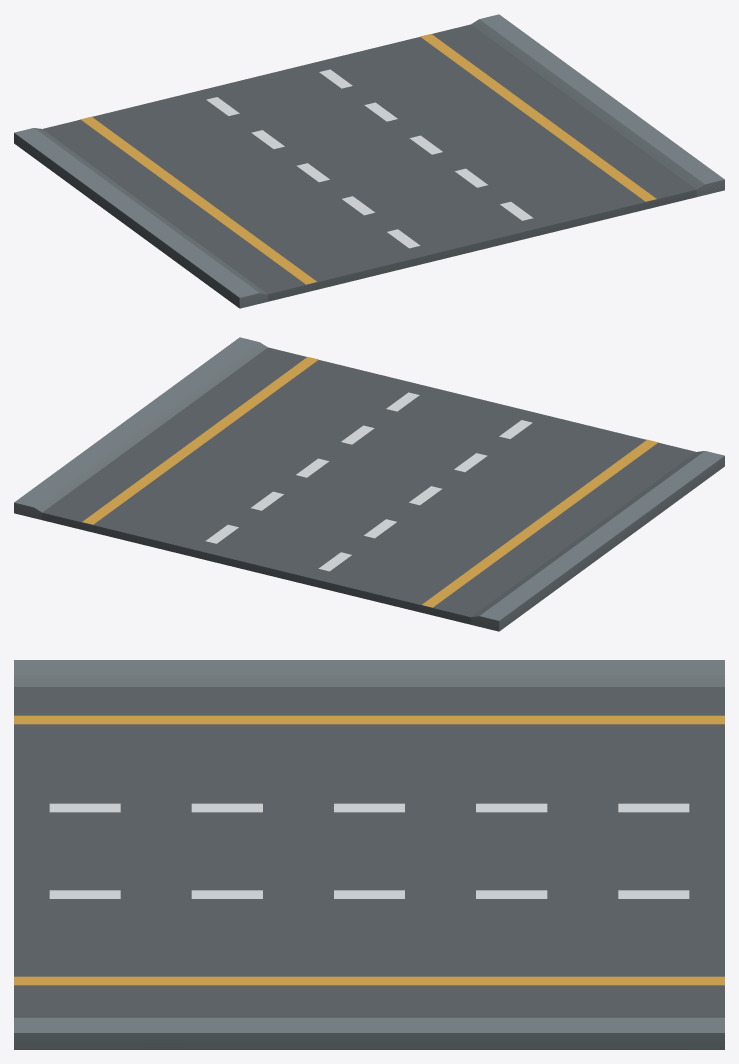
Rendered from StraightRoad1.gltf.
3 views of the same model, one above another, from view 1: azimuth 30°, elevation 25°; view 2: azimuth 150°, elevation 25°; view 3: azimuth 270°, elevation 25° (orthographic). The views are drawn at different scales.
Parts seen in each view (by area): view 1: road_straight_Cube.952; view 2: road_straight_Cube.952; view 3: road_straight_Cube.952.
Boxes of the visible parts, bbox=[...] form: road_straight_Cube.952: bbox=[14, 14, 724, 308]; road_straight_Cube.952: bbox=[14, 337, 724, 631]; road_straight_Cube.952: bbox=[14, 660, 724, 1049].
Bounding box in the file's own units: 4.72 × 0.1 × 3.81.
1 material, 1 textured.
